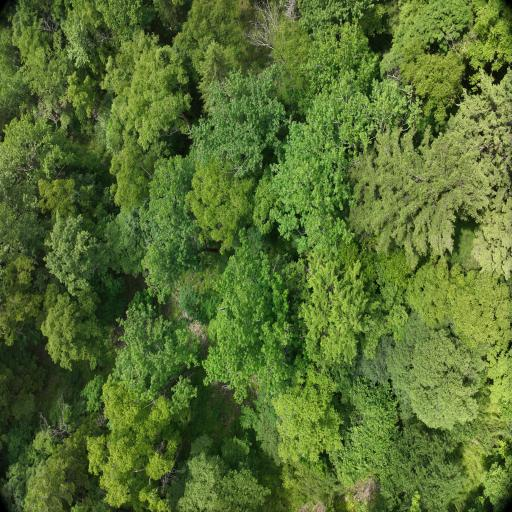dead-tree: (245, 0, 298, 67)
